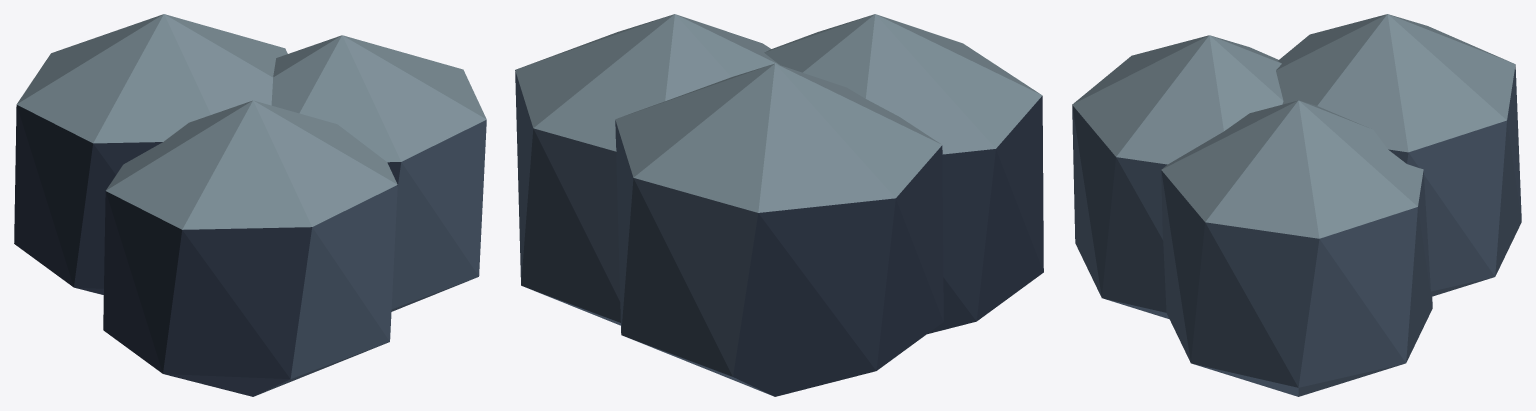
Rendered from TW_VEG_BUSH_ROUND_A_LOD0.glb.
3 renders of one model, left to right at view 1: azimuth 30°, elevation 25°; view 2: azimuth 150°, elevation 25°; view 3: azimuth 270°, elevation 25°, orthographic. The views are drawn at different scales.
Parts seen in each view (by area): view 1: TW_VEG_BUSH_ROUND_A_LOD0; view 2: TW_VEG_BUSH_ROUND_A_LOD0; view 3: TW_VEG_BUSH_ROUND_A_LOD0.
Boxes of the visible parts, x1,y1,x2,y2 form: TW_VEG_BUSH_ROUND_A_LOD0: [14, 14, 486, 396]; TW_VEG_BUSH_ROUND_A_LOD0: [515, 14, 1043, 396]; TW_VEG_BUSH_ROUND_A_LOD0: [1072, 14, 1521, 396].
Size of the model in its own units: 0.9738 by 0.75 by 0.9618.
Materials: 1 (1 with a texture image).
